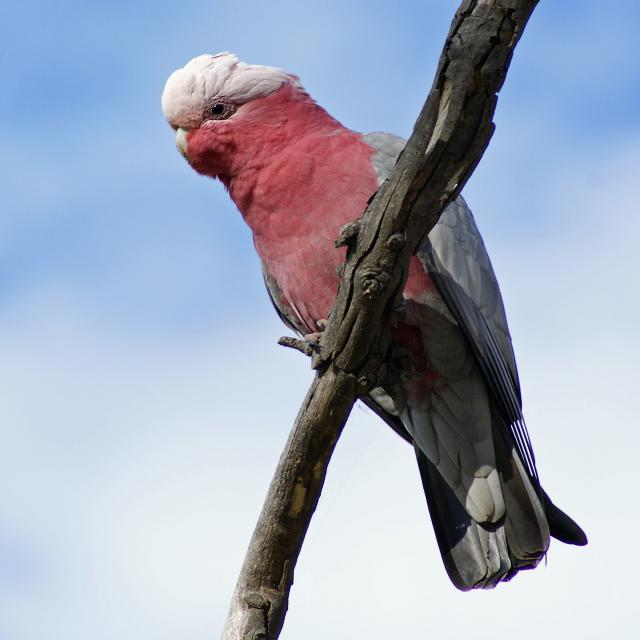bird: (148, 47, 603, 601)
